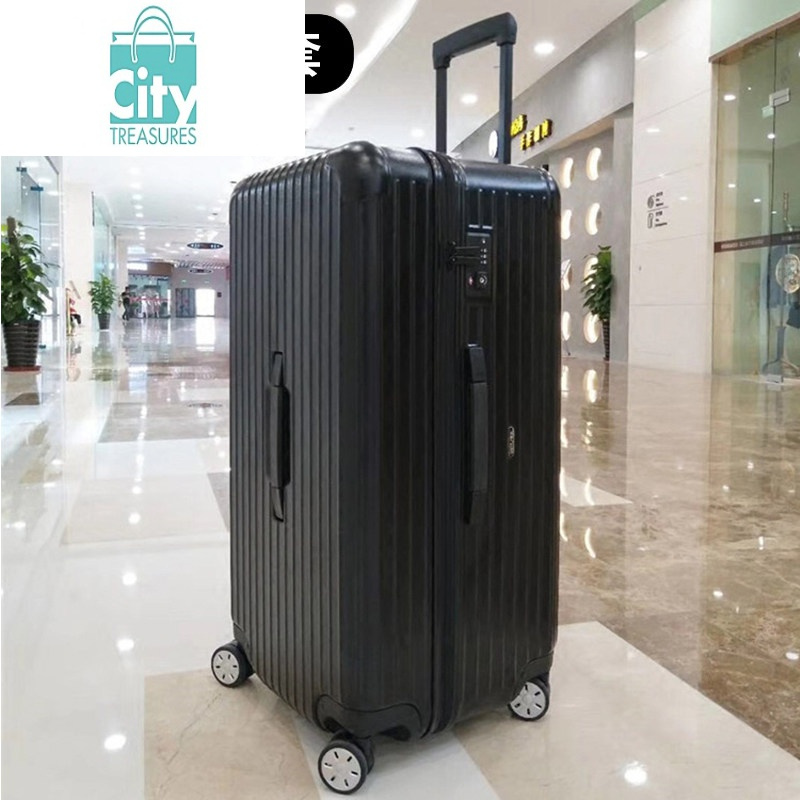box: (230, 142, 561, 742)
handle: (462, 342, 490, 530)
lock: (453, 232, 493, 303)
wheel: (318, 729, 375, 795), (211, 639, 254, 688), (507, 676, 550, 722)
